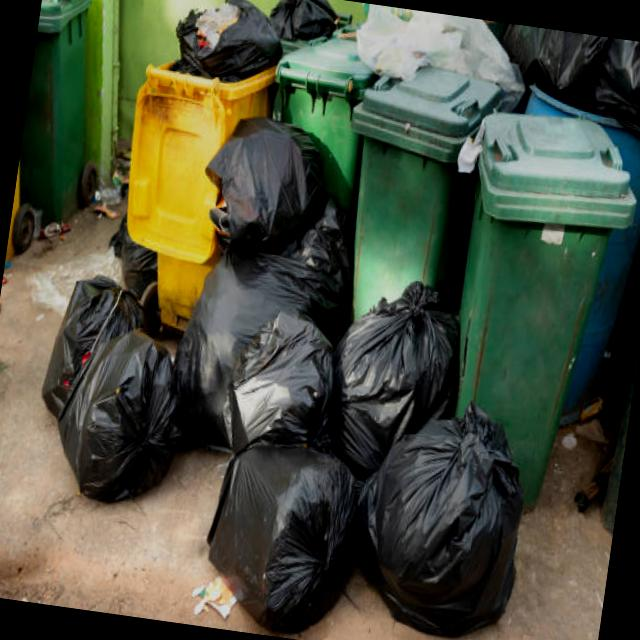garbage: (16, 82, 579, 640)
